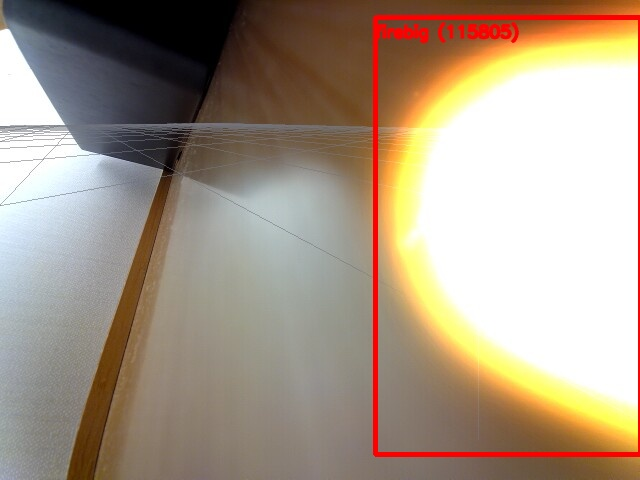firebig: (375, 17, 640, 454)
